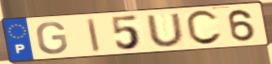5: (110, 14, 146, 52)
6: (226, 7, 257, 43)
C: (184, 9, 225, 47)
G: (35, 21, 70, 56)
I: (85, 17, 102, 54)
U: (145, 12, 188, 48)
